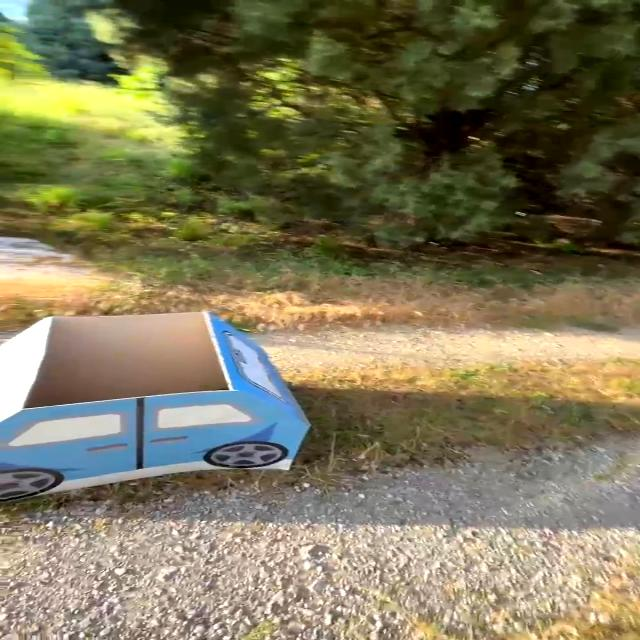blue_car: (0, 265, 370, 535)
